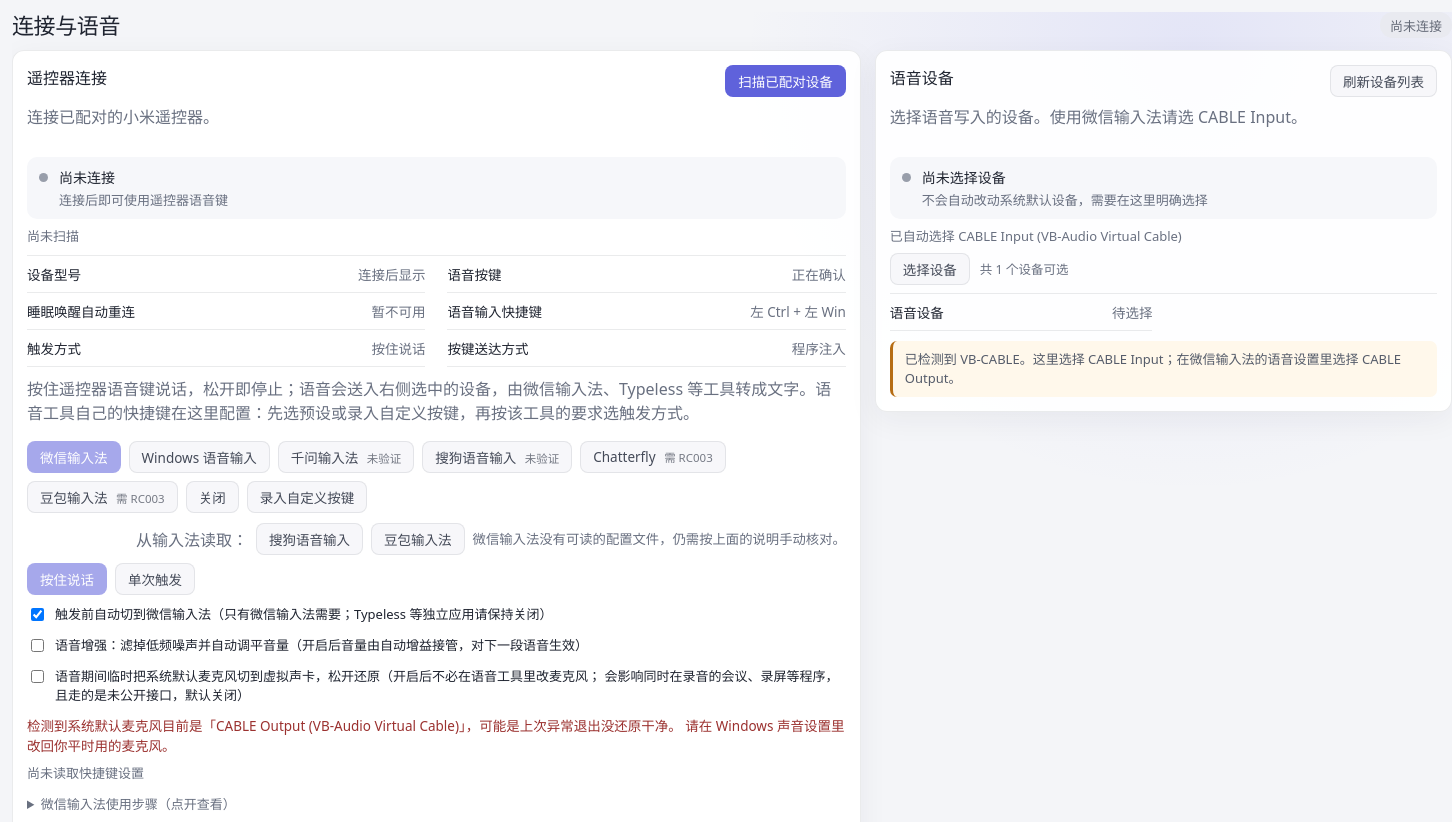
Test: 语音输入快捷键设置 › 语音增强开关：默认关闭，勾选后写入设置
Click the checkbox labelled "语音增强：滤掉低频噪声并自动调平音量（开启后音量由自动增益接管，对下一段语音生效）": (38, 645) [31,639,44,652]
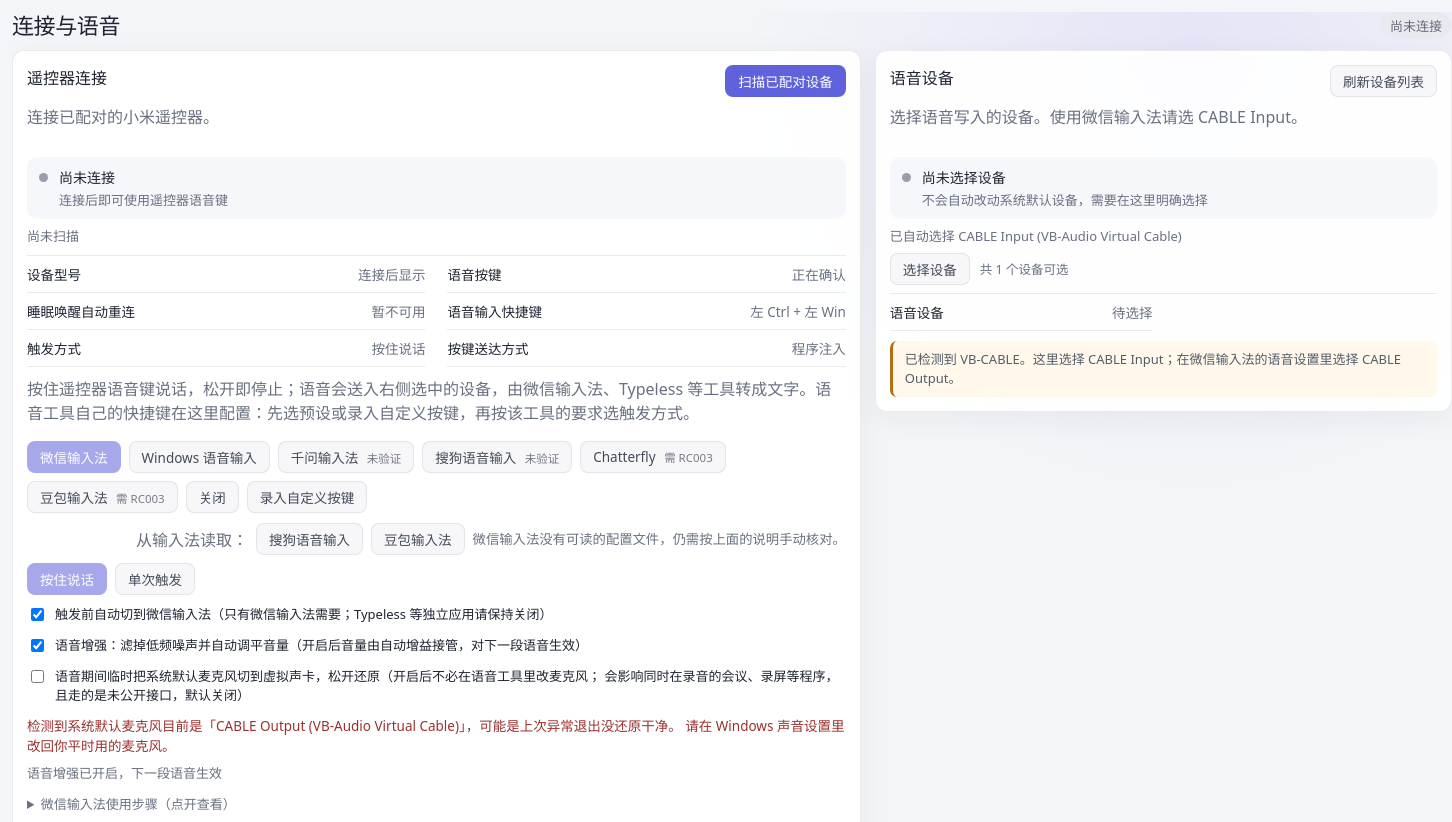
Result: the text "语音增强已开启" is shown at [27,764,222,782]
